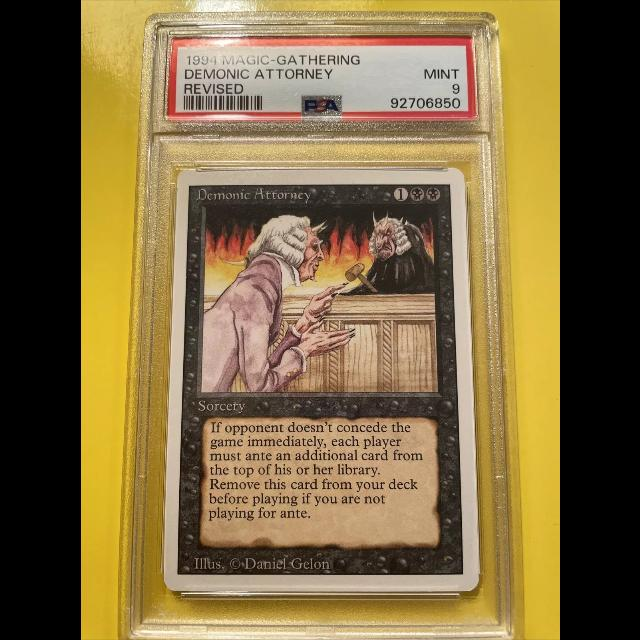card: (162, 167, 480, 592)
psa_label: (165, 36, 477, 120)
psa_slab: (117, 11, 527, 640)
